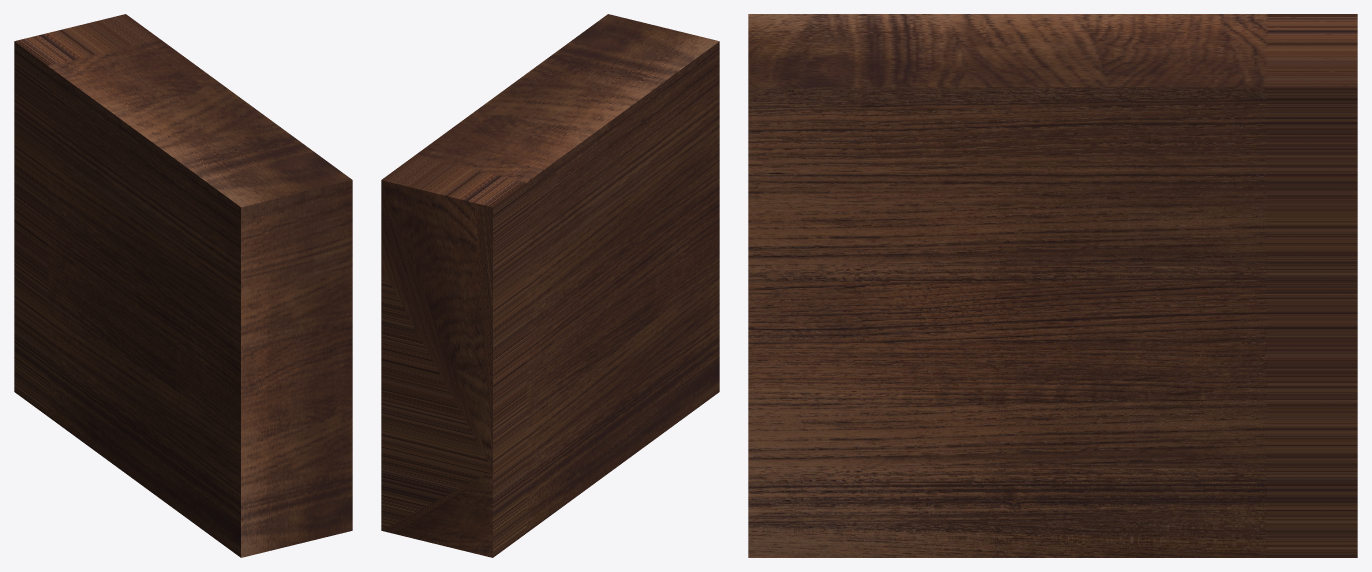
Rendered from WoodBarrierHS.fbx.
3 views of the same model, side by side, from view 1: azimuth 30°, elevation 25°; view 2: azimuth 150°, elevation 25°; view 3: azimuth 270°, elevation 25° (orthographic). The views are drawn at different scales.
Parts seen in each view (by area): view 1: WoodBarrier.002HS; view 2: WoodBarrier.002HS; view 3: WoodBarrier.002HS.
Boxes of the visible parts, left/top/right/bottom form: WoodBarrier.002HS: left=14, top=14, right=352, bottom=557; WoodBarrier.002HS: left=381, top=14, right=719, bottom=557; WoodBarrier.002HS: left=748, top=14, right=1357, bottom=557.
Size of the model in its own units: 25 by 74.97 by 87.95.
